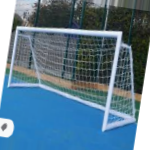goals: (8, 24, 138, 131)
